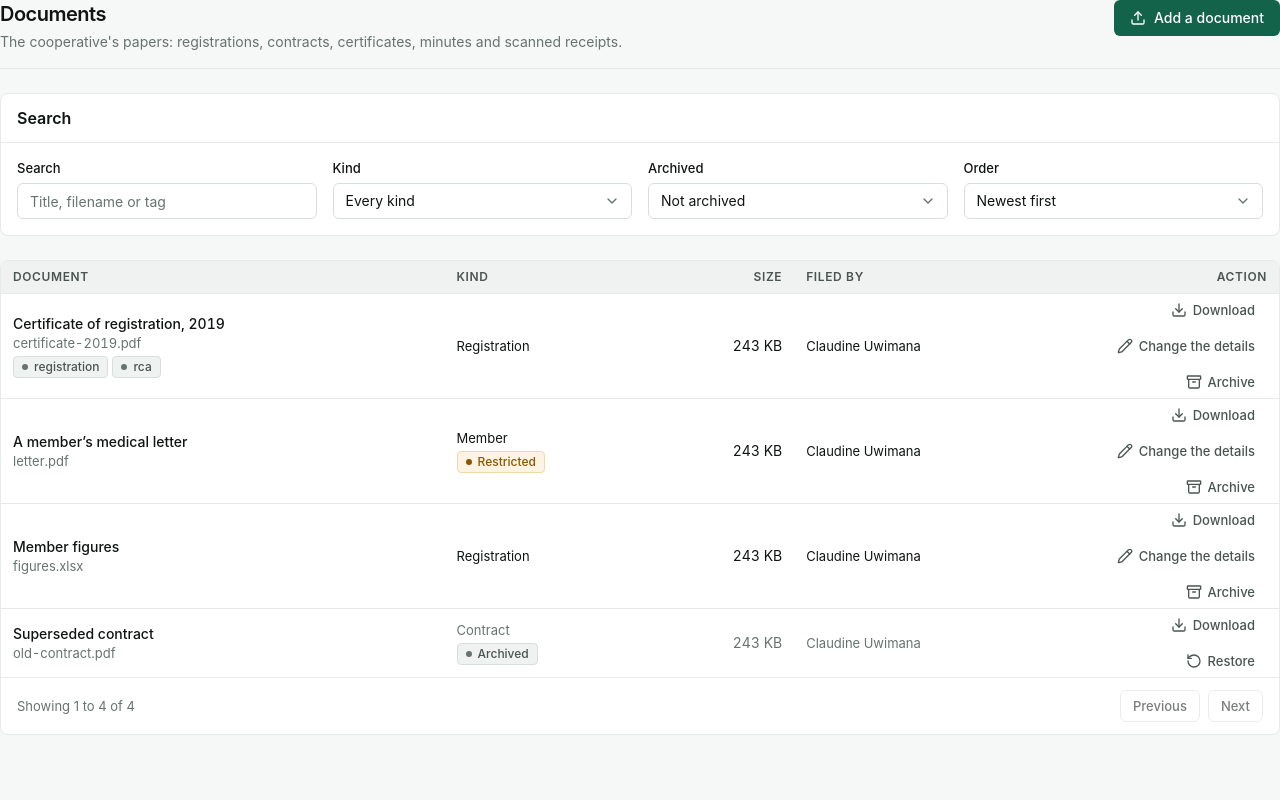
Test: archiving › says what keeping the document means rather than "Cancel"
Expected: the text "Certificate of registration, 2019" is shown, [13, 315, 225, 332]
Click the button "Archive" in the row of "rca": (1220, 382) [1174, 366, 1267, 398]
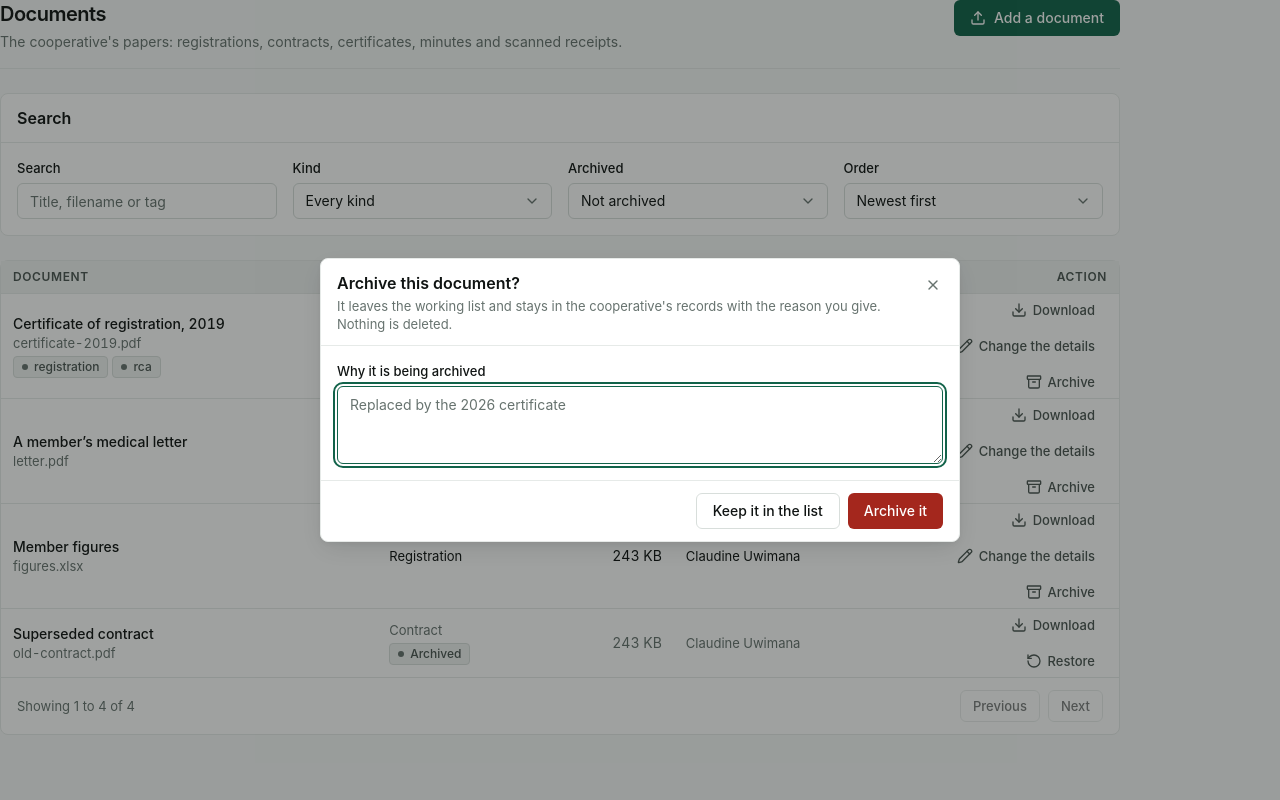
Expected: the button "Archive it" is shown, [848, 493, 943, 529]
Expected: the button "Keep it in the list" is shown
Click the button "Keep it in the list": (768, 511) [696, 493, 840, 529]
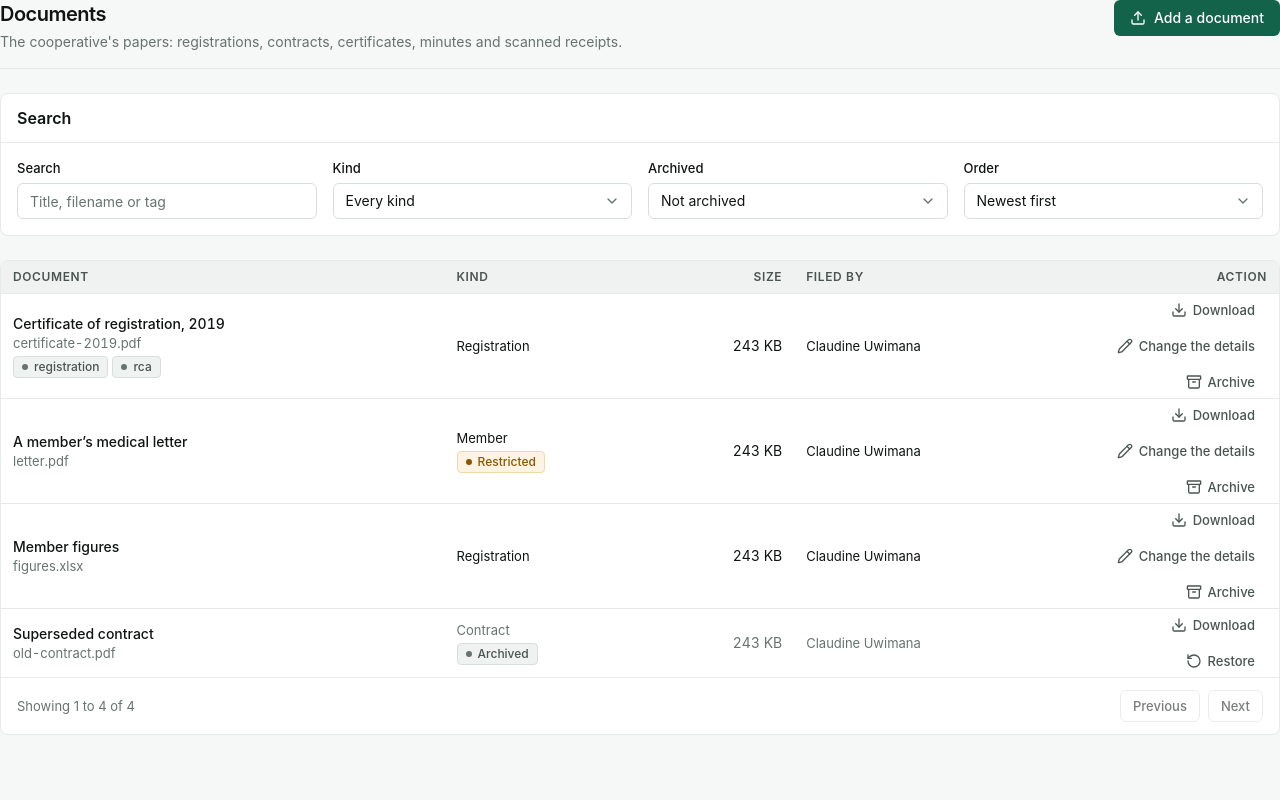
Expected: the dialog is gone
